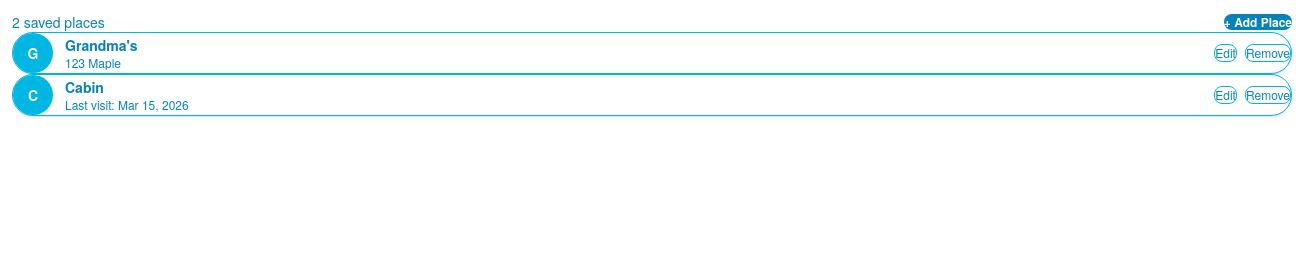
it: PlacesManager › cancels edit and returns to card view
Click the button with test id "edit-place-btn" in the row of "Grandma's": {"x": 1226, "y": 53} x1=1214 y1=44 x2=1237 y2=62
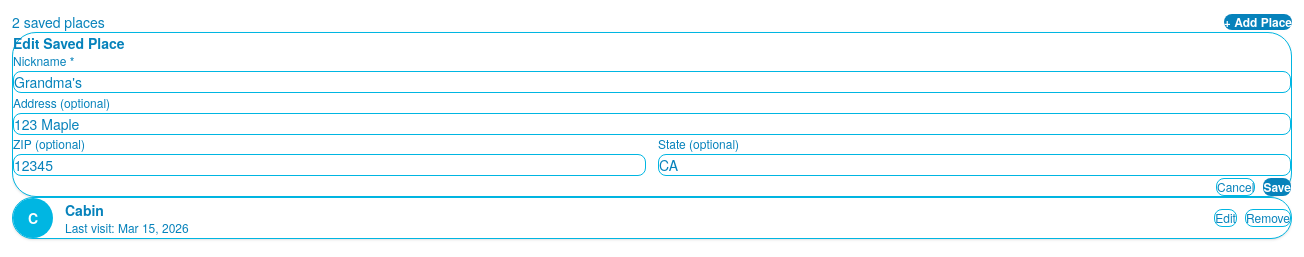
Now the form with test id "edit-place-form" is shown
Click the button with test id "edit-place-cancel-btn": {"x": 1236, "y": 187} x1=1216 y1=178 x2=1255 y2=196
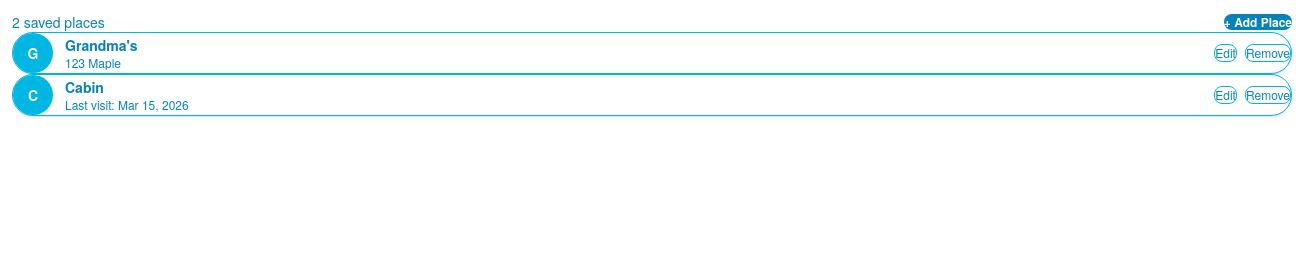
Now the form with test id "edit-place-form" is gone
Now the number of elements with test id "place-card" is 2, box x1=12 y1=32 x2=1292 y2=74; x1=12 y1=74 x2=1292 y2=116
